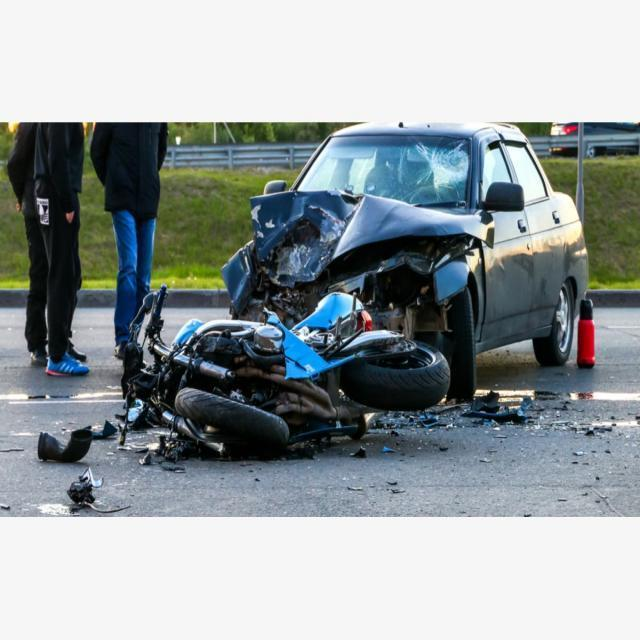car Accident: (140, 154, 545, 486)
